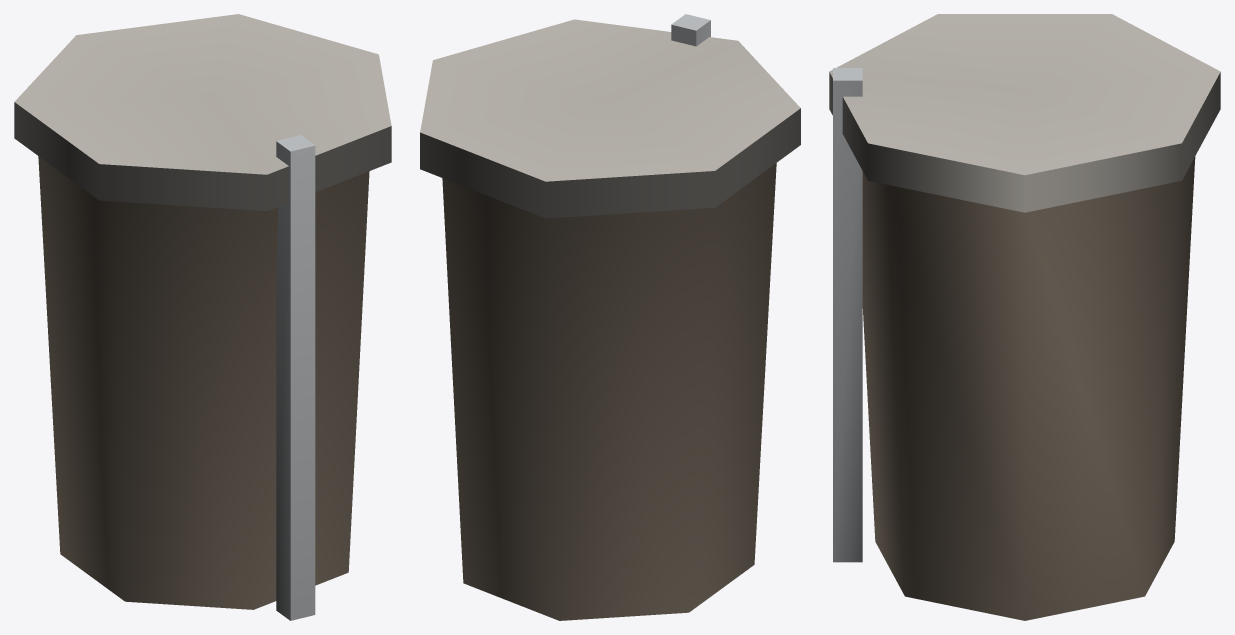
Rendered from litter_bin_park.lod1.glb.
The picture shows the model from 3 angles, left to right: view 1: azimuth 30°, elevation 25°; view 2: azimuth 150°, elevation 25°; view 3: azimuth 270°, elevation 25°; orthographic projection. The views are drawn at different scales.
Parts seen in each view (by area): view 1: props_litter_bin_park.lod1; view 2: props_litter_bin_park.lod1; view 3: props_litter_bin_park.lod1.
Boxes of the visible parts, bbox=[...] form: props_litter_bin_park.lod1: bbox=[14, 14, 391, 620]; props_litter_bin_park.lod1: bbox=[420, 14, 800, 620]; props_litter_bin_park.lod1: bbox=[829, 14, 1220, 620].
Bounding box in the file's own units: 0.6463 × 0.9 × 0.663.
